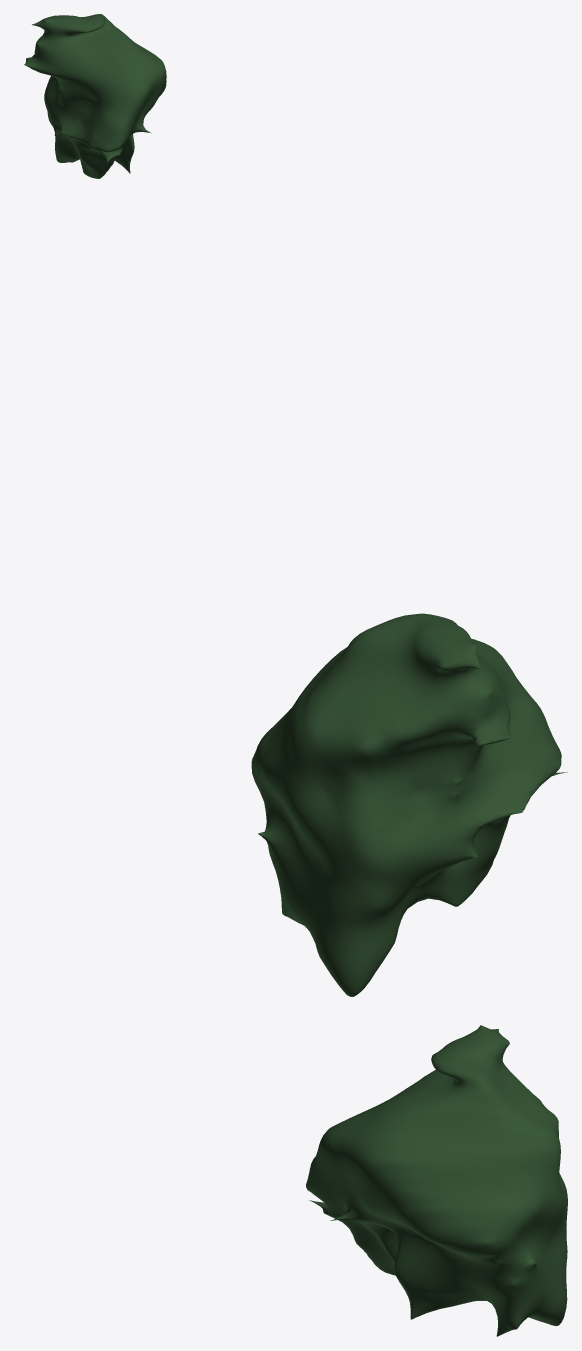
Rendered from Tumor.obj.
3 views of the same model, one above another, from view 1: azimuth 30°, elevation 25°; view 2: azimuth 150°, elevation 25°; view 3: azimuth 270°, elevation 25° (orthographic). The views are drawn at different scales.
Parts seen in each view (by area): view 1: grp1; view 2: grp1; view 3: grp1.
Boxes of the visible parts, x1,y1,x2,y2 form: grp1: [24, 14, 166, 178]; grp1: [251, 613, 567, 996]; grp1: [306, 1025, 567, 1336].
Size of the model in its own units: 104 by 46.59 by 77.22.
